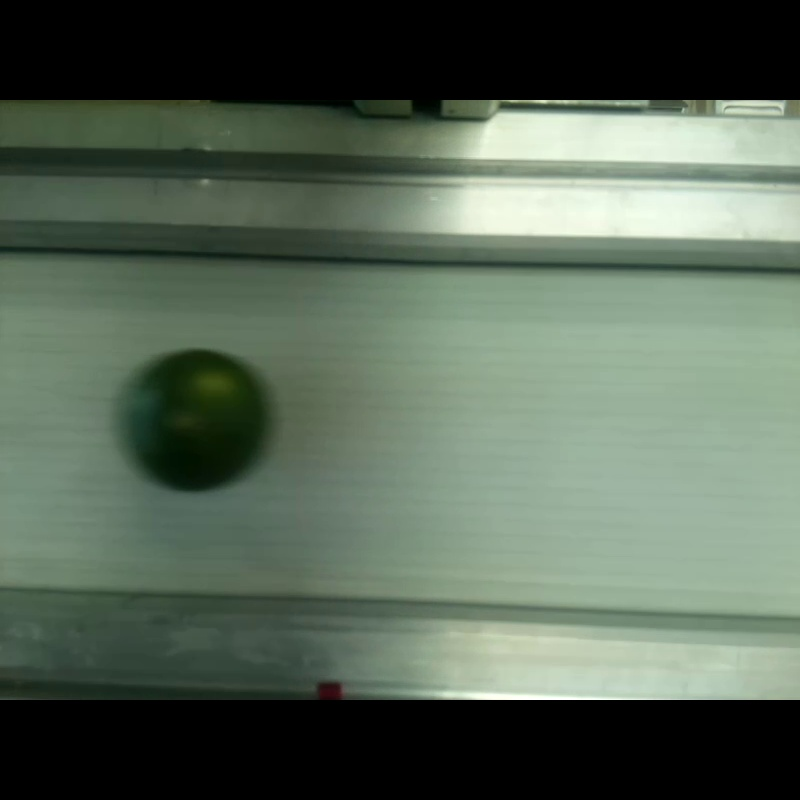lime: (126, 350, 265, 491)
